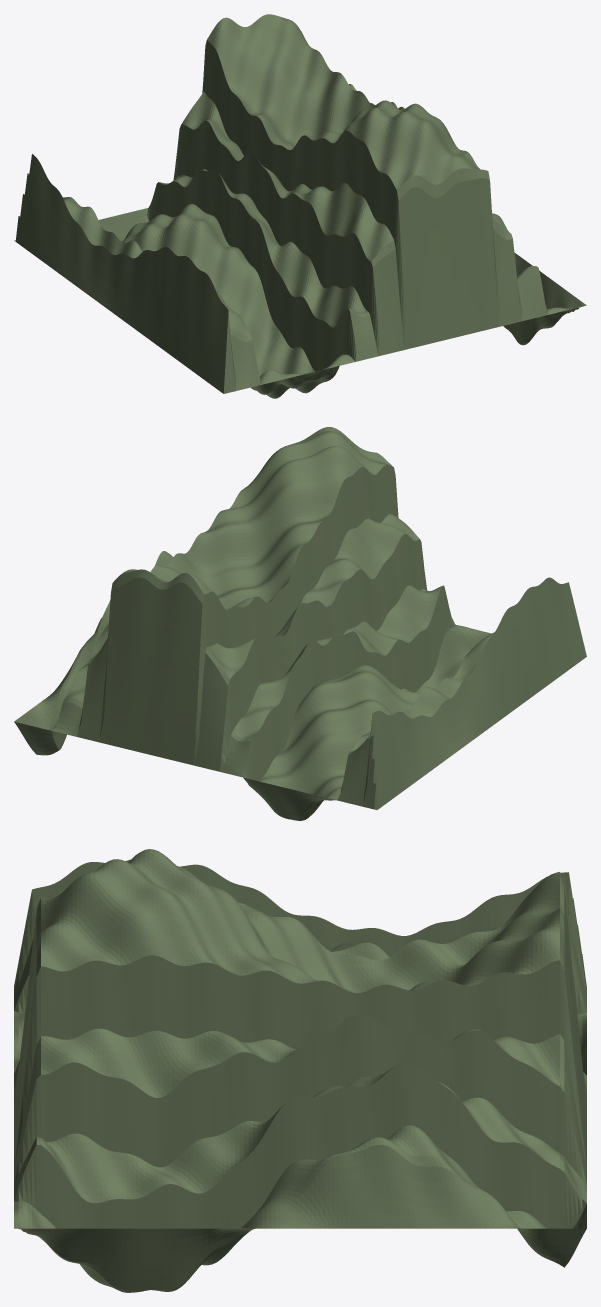
The model's file is amber_wheat_terraces.obj.
The picture shows the model from 3 angles, top to bottom: view 1: azimuth 30°, elevation 25°; view 2: azimuth 150°, elevation 25°; view 3: azimuth 270°, elevation 25°; orthographic projection. The views are drawn at different scales.
Visible parts, largest first — view 1: amber_wheat_terraces; view 2: amber_wheat_terraces; view 3: amber_wheat_terraces.
Part boxes in pixels (x1,y1,x2,y2): amber_wheat_terraces: (14, 14, 586, 398); amber_wheat_terraces: (14, 427, 586, 820); amber_wheat_terraces: (14, 849, 586, 1292).
Bounding box in the file's own units: 28 × 19.22 × 28.
